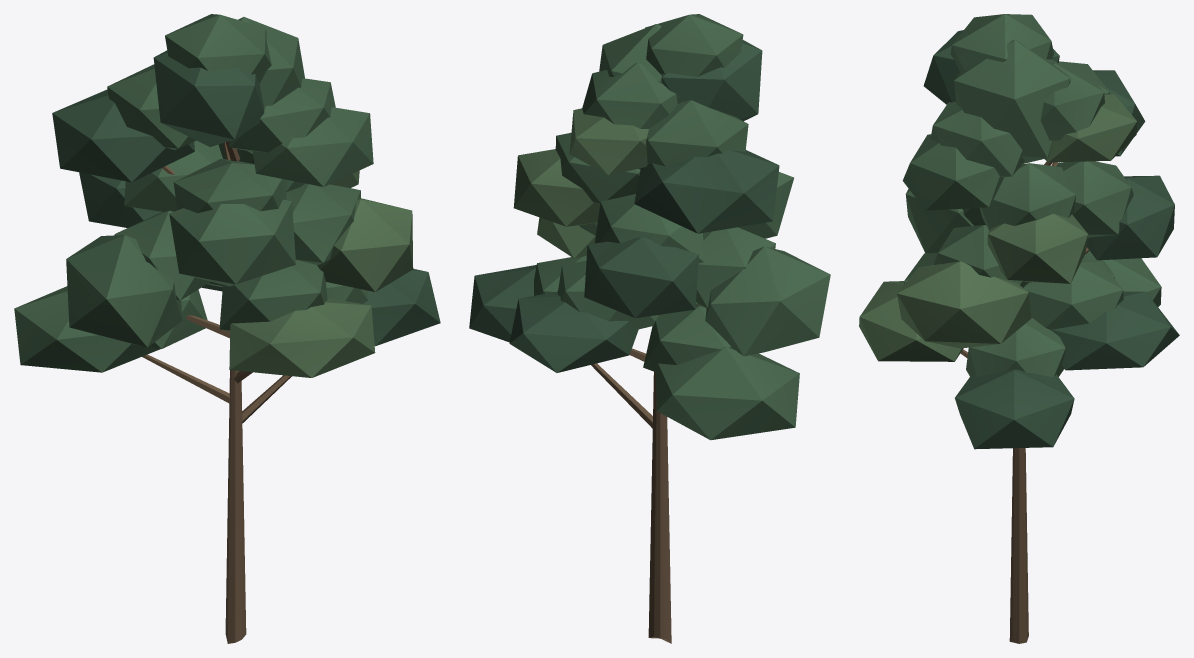
Rendered from PineOpen.glb.
The picture shows the model from 3 angles, left to right: view 1: azimuth 30°, elevation 25°; view 2: azimuth 150°, elevation 25°; view 3: azimuth 270°, elevation 25°; orthographic projection. The views are drawn at different scales.
Visible parts, largest first — view 1: PineOpenVisual; view 2: PineOpenVisual; view 3: PineOpenVisual.
Boxes of the visible parts, x1,y1,x2,y2 form: PineOpenVisual: (14,14,440,643); PineOpenVisual: (469,14,830,643); PineOpenVisual: (859,14,1179,643).
Size of what is drawn, in the model's own units: 9.07 by 15.04 by 7.06.
